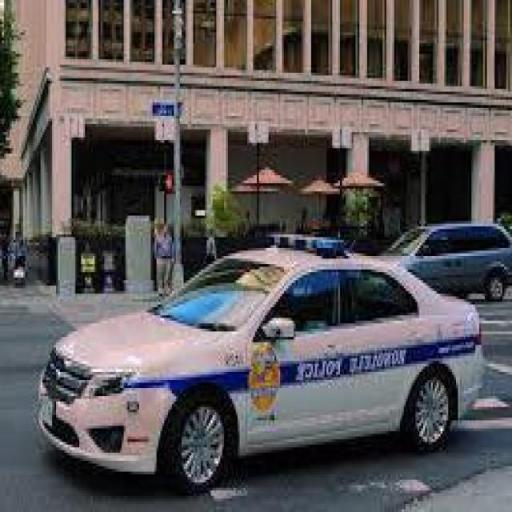Ambulance: (36, 232, 487, 490)
